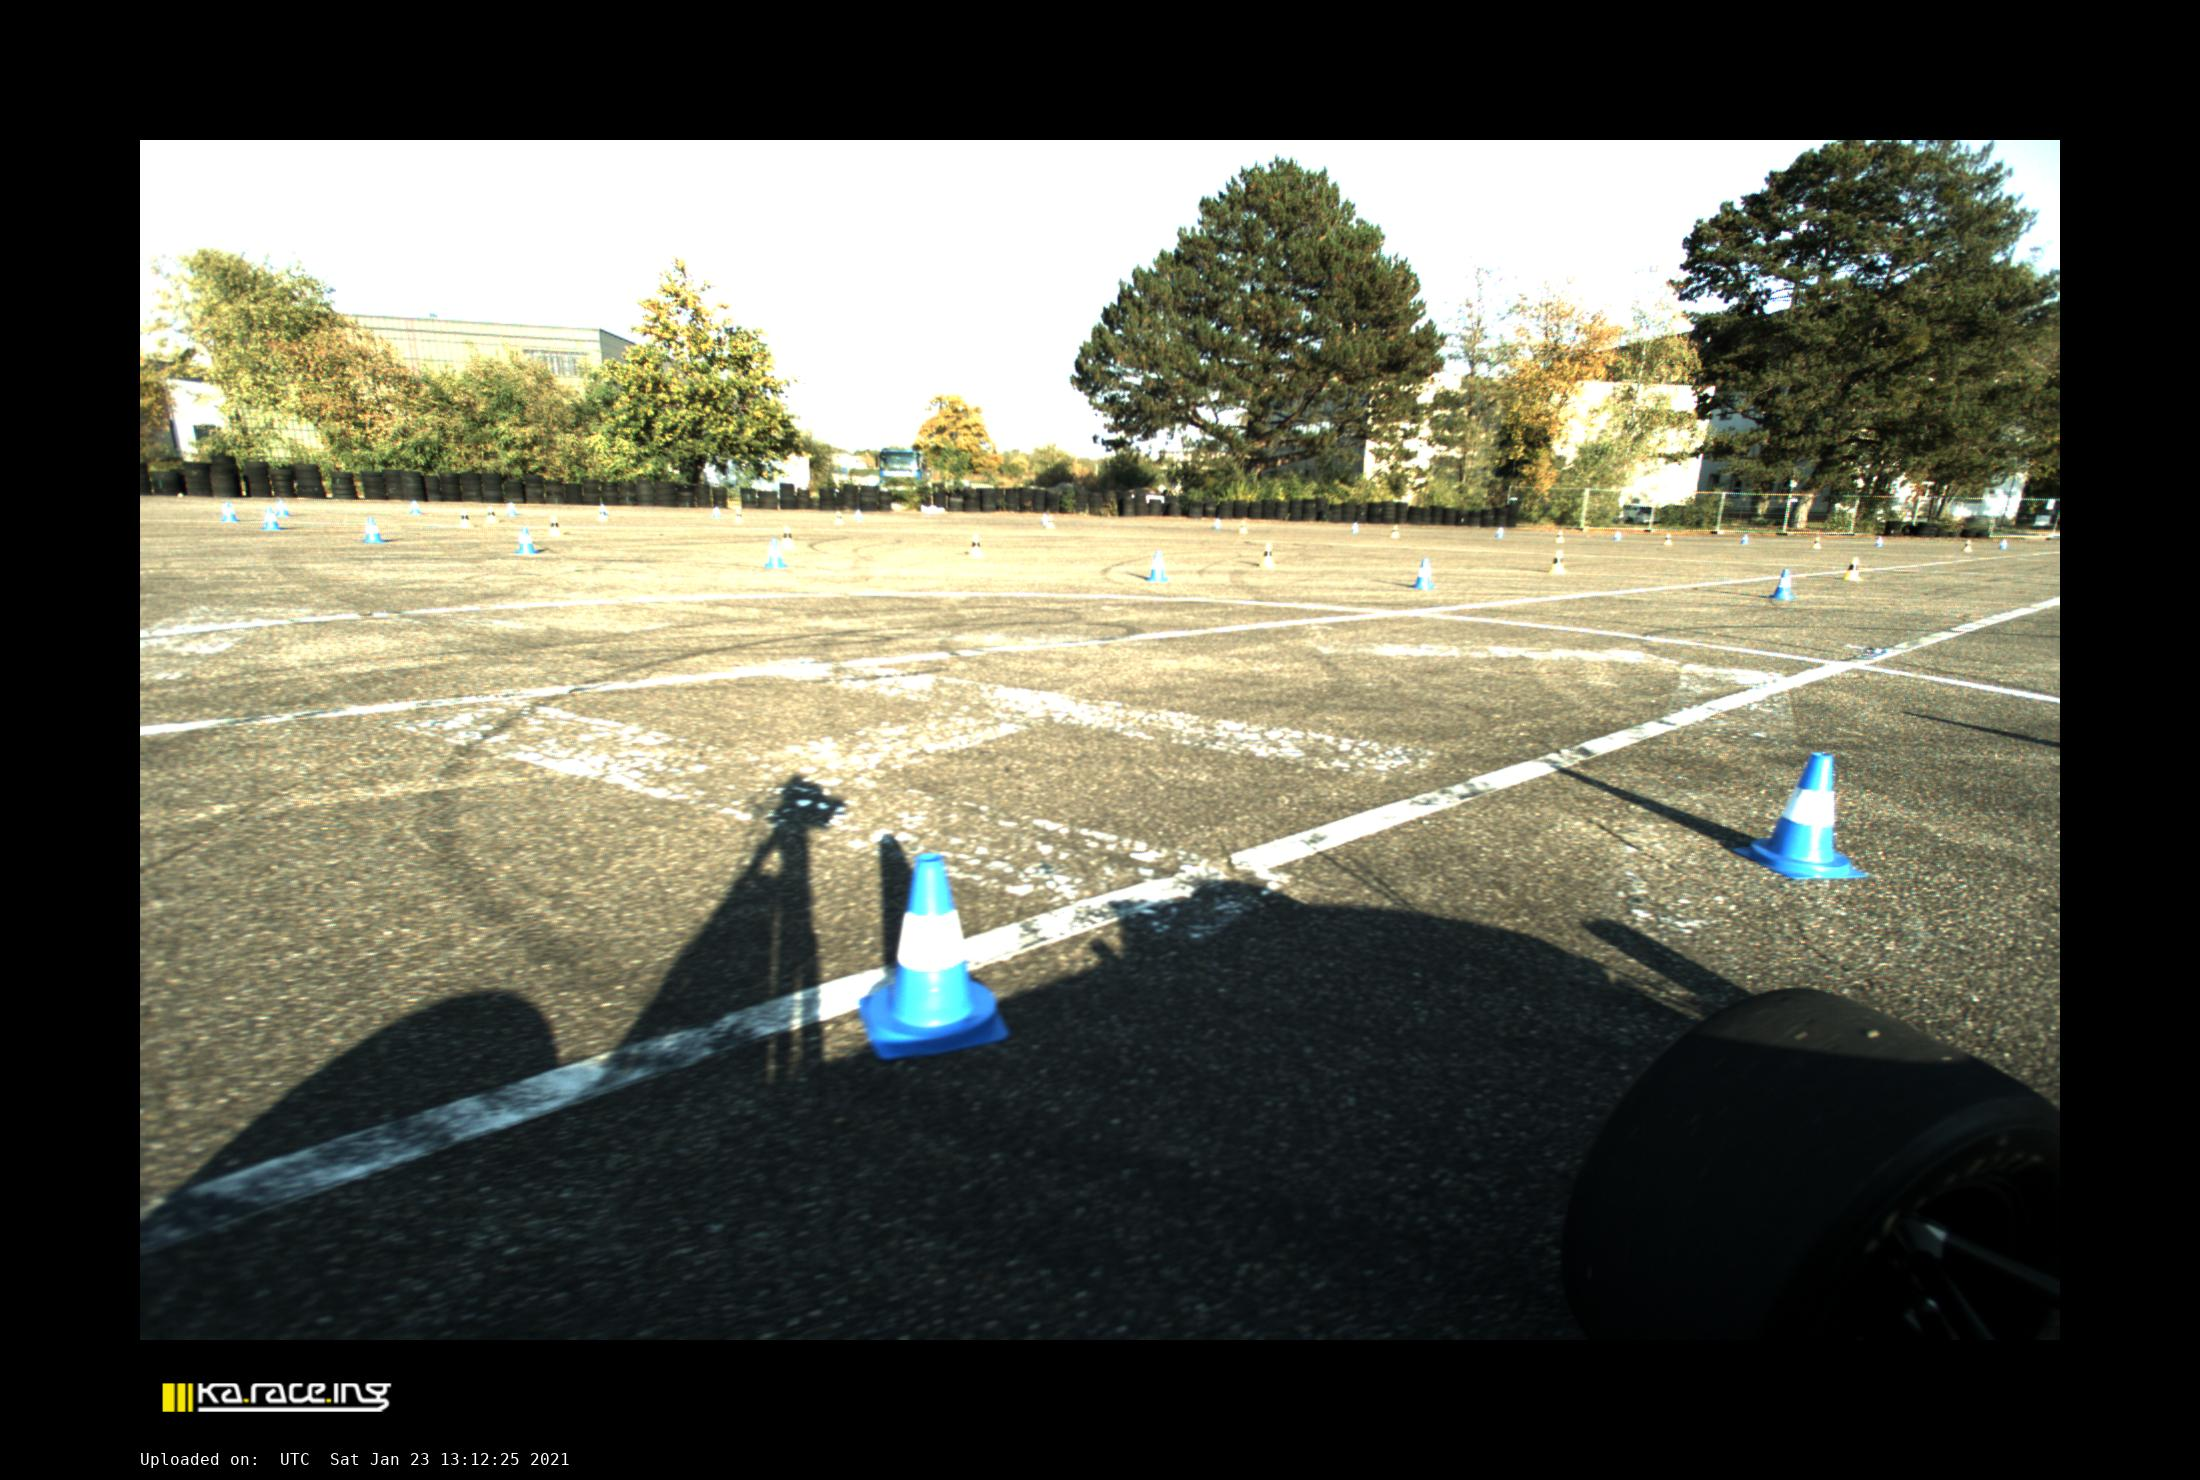blue_cone: (862, 856, 1008, 1059), (1731, 753, 1868, 879), (1769, 568, 1795, 600), (1411, 558, 1435, 590), (763, 538, 788, 567), (1146, 550, 1168, 581), (515, 527, 538, 553), (362, 517, 383, 543), (259, 507, 282, 530), (221, 502, 239, 522), (274, 499, 291, 515), (410, 500, 423, 515), (507, 500, 517, 515), (712, 505, 722, 519), (1039, 512, 1049, 525), (852, 509, 862, 520), (1875, 535, 1885, 547), (1998, 538, 2010, 548), (1349, 520, 1358, 534), (1496, 525, 1505, 538), (1214, 517, 1222, 529), (1614, 530, 1622, 542), (600, 504, 608, 515), (1741, 534, 1749, 543)
yellow_cone: (1260, 542, 1277, 568), (1843, 557, 1861, 580), (1549, 552, 1567, 575), (778, 527, 796, 548), (547, 514, 563, 535), (968, 535, 983, 558), (458, 510, 472, 529), (484, 505, 499, 524), (596, 507, 609, 522), (1044, 514, 1055, 529), (1554, 530, 1566, 543), (1663, 532, 1675, 545), (1810, 535, 1822, 548), (733, 509, 743, 524), (1239, 519, 1249, 534), (1391, 524, 1401, 538), (1964, 538, 1972, 552), (836, 510, 842, 525)
